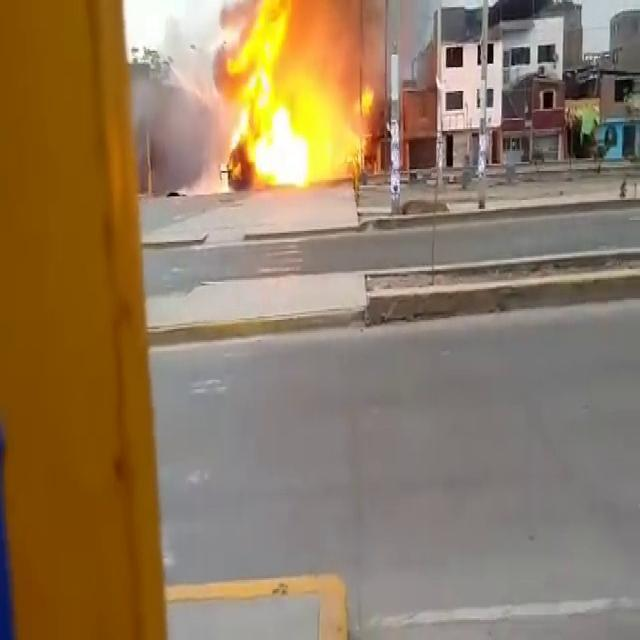Fire: (216, 0, 376, 195)
